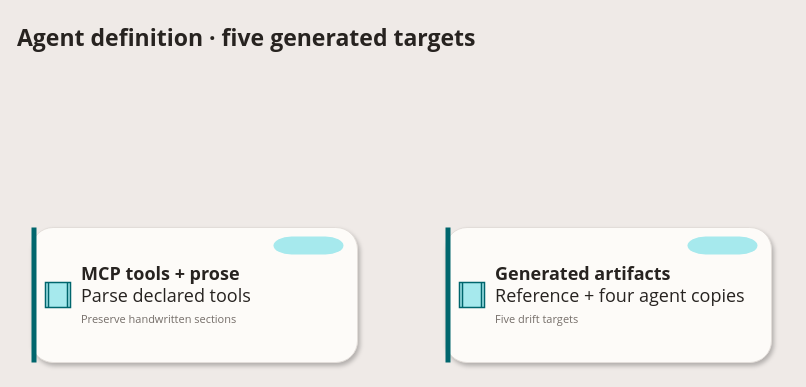
Image size: 806x387. Some labels were removed from this diagram. Here are the shapes that lost their labels. From the top down, the centre of each, then its label:
At (308,245): "SCOPE".
At (722,245): "RESULT".
